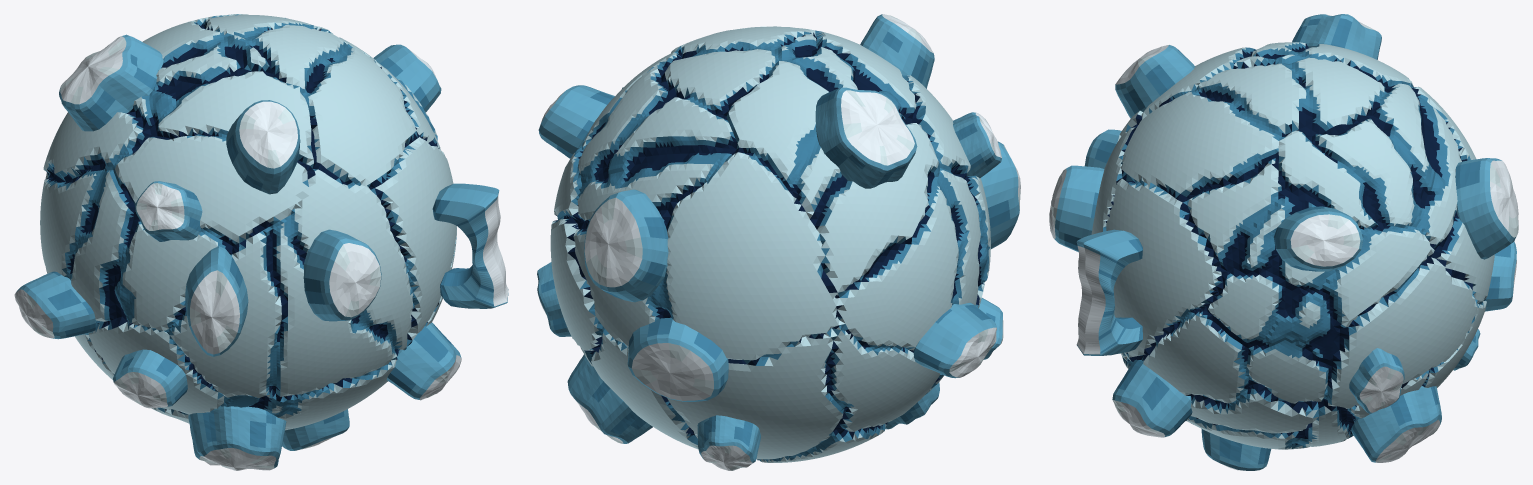
The model's file is nacar.obj.
3 views of the same model, side by side, from view 1: azimuth 30°, elevation 25°; view 2: azimuth 150°, elevation 25°; view 3: azimuth 270°, elevation 25° (orthographic). The views are drawn at different scales.
Visible parts, largest first — view 1: Nacar_|_oceano_congelado_y_placas.001, Nacar_|_arco_glaciar_y_cueva_azul_|_detalle_cercano, Nacar_|_glaciar_erosionado_05_|_detalle_cercano, Nacar_|_glaciar_erosionado_07_|_detalle_cercano, Nacar_|_glaciar_erosionado_13_|_detalle_cercano, Nacar_|_glaciar_erosionado_01_|_detalle_cercano, Nacar_|_glaciar_erosionado_14_|_detalle_cercano, Nacar_|_glaciar_erosionado_08_|_detalle_cercano, Nacar_|_glaciar_erosionado_12_|_detalle_cercano, Nacar_|_glaciar_erosionado_16_|_detalle_cercano, Nacar_|_glaciar_erosionado_02_|_detalle_cercano, Nacar_|_glaciar_erosionado_09_|_detalle_cercano (+1 smaller); view 2: Nacar_|_oceano_congelado_y_placas.001, Nacar_|_glaciar_erosionado_05_|_detalle_cercano, Nacar_|_glaciar_erosionado_10_|_detalle_cercano, Nacar_|_glaciar_erosionado_15_|_detalle_cercano, Nacar_|_glaciar_erosionado_08_|_detalle_cercano, Nacar_|_glaciar_erosionado_04_|_detalle_cercano, Nacar_|_glaciar_erosionado_09_|_detalle_cercano, Nacar_|_glaciar_erosionado_13_|_detalle_cercano, Nacar_|_glaciar_erosionado_03_|_detalle_cercano, Nacar_|_glaciar_erosionado_14_|_detalle_cercano, Nacar_|_glaciar_erosionado_02_|_detalle_cercano, Nacar_|_glaciar_erosionado_06_|_detalle_cercano (+2 smaller); view 3: Nacar_|_oceano_congelado_y_placas.001, Nacar_|_arco_glaciar_y_cueva_azul_|_detalle_cercano, Nacar_|_glaciar_erosionado_10_|_detalle_cercano, Nacar_|_glaciar_erosionado_09_|_detalle_cercano, Nacar_|_glaciar_erosionado_04_|_detalle_cercano, Nacar_|_glaciar_erosionado_12_|_detalle_cercano, Nacar_|_glaciar_erosionado_07_|_detalle_cercano, Nacar_|_glaciar_erosionado_13_|_detalle_cercano, Nacar_|_glaciar_erosionado_05_|_detalle_cercano, Nacar_|_glaciar_erosionado_06_|_detalle_cercano, Nacar_|_glaciar_erosionado_11_|_detalle_cercano, Nacar_|_glaciar_erosionado_15_|_detalle_cercano (+1 smaller).
Boxes of the visible parts, x1,y1,x2,y2 form: Nacar_|_oceano_congelado_y_placas.001: [40, 14, 456, 430]; Nacar_|_arco_glaciar_y_cueva_azul_|_detalle_cercano: [432, 183, 508, 308]; Nacar_|_glaciar_erosionado_05_|_detalle_cercano: [59, 34, 163, 131]; Nacar_|_glaciar_erosionado_07_|_detalle_cercano: [303, 229, 381, 321]; Nacar_|_glaciar_erosionado_13_|_detalle_cercano: [226, 100, 300, 194]; Nacar_|_glaciar_erosionado_01_|_detalle_cercano: [188, 406, 286, 470]; Nacar_|_glaciar_erosionado_14_|_detalle_cercano: [185, 246, 248, 356]; Nacar_|_glaciar_erosionado_08_|_detalle_cercano: [14, 271, 97, 339]; Nacar_|_glaciar_erosionado_12_|_detalle_cercano: [386, 322, 461, 400]; Nacar_|_glaciar_erosionado_16_|_detalle_cercano: [113, 349, 187, 408]; Nacar_|_glaciar_erosionado_02_|_detalle_cercano: [135, 181, 202, 241]; Nacar_|_glaciar_erosionado_09_|_detalle_cercano: [373, 44, 441, 112]; Nacar_|_oceano_congelado_y_placas.001: [550, 26, 990, 462]; Nacar_|_glaciar_erosionado_05_|_detalle_cercano: [815, 87, 917, 188]; Nacar_|_glaciar_erosionado_10_|_detalle_cercano: [584, 189, 668, 302]; Nacar_|_glaciar_erosionado_15_|_detalle_cercano: [627, 317, 728, 401]; Nacar_|_glaciar_erosionado_08_|_detalle_cercano: [913, 302, 996, 378]; Nacar_|_glaciar_erosionado_04_|_detalle_cercano: [567, 354, 652, 443]; Nacar_|_glaciar_erosionado_09_|_detalle_cercano: [538, 85, 614, 158]; Nacar_|_glaciar_erosionado_13_|_detalle_cercano: [860, 14, 934, 88]; Nacar_|_glaciar_erosionado_03_|_detalle_cercano: [697, 415, 760, 470]; Nacar_|_glaciar_erosionado_14_|_detalle_cercano: [980, 141, 1020, 248]; Nacar_|_glaciar_erosionado_02_|_detalle_cercano: [953, 112, 1001, 178]; Nacar_|_glaciar_erosionado_06_|_detalle_cercano: [537, 262, 571, 336]; Nacar_|_oceano_congelado_y_placas.001: [1091, 42, 1494, 449]; Nacar_|_arco_glaciar_y_cueva_azul_|_detalle_cercano: [1076, 229, 1142, 355]; Nacar_|_glaciar_erosionado_10_|_detalle_cercano: [1455, 158, 1518, 259]; Nacar_|_glaciar_erosionado_09_|_detalle_cercano: [1273, 206, 1363, 271]; Nacar_|_glaciar_erosionado_04_|_detalle_cercano: [1351, 386, 1441, 462]; Nacar_|_glaciar_erosionado_12_|_detalle_cercano: [1112, 359, 1192, 437]; Nacar_|_glaciar_erosionado_07_|_detalle_cercano: [1049, 165, 1104, 251]; Nacar_|_glaciar_erosionado_13_|_detalle_cercano: [1115, 45, 1194, 118]; Nacar_|_glaciar_erosionado_05_|_detalle_cercano: [1292, 14, 1381, 59]; Nacar_|_glaciar_erosionado_06_|_detalle_cercano: [1349, 348, 1404, 413]; Nacar_|_glaciar_erosionado_11_|_detalle_cercano: [1201, 429, 1271, 470]; Nacar_|_glaciar_erosionado_15_|_detalle_cercano: [1485, 241, 1516, 311].
Bounding box in the file's own units: 2.26 × 2.12 × 2.3.
